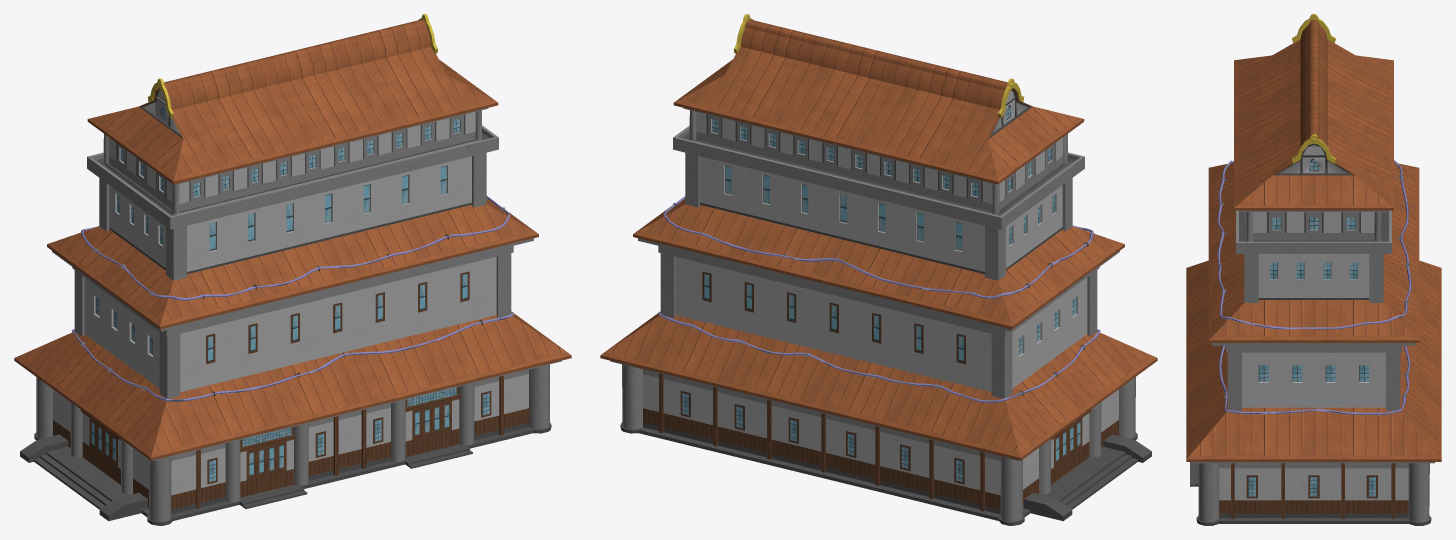
File: SM_ENV_LKNVLD_CommonBuilding_B.FBX
3 views of the same model, side by side, from view 1: azimuth 30°, elevation 25°; view 2: azimuth 150°, elevation 25°; view 3: azimuth 270°, elevation 25° (orthographic). The views are drawn at different scales.
Parts seen in each view (by area): view 1: SM_ENV_LKNVLD_CommonBuilding_B; view 2: SM_ENV_LKNVLD_CommonBuilding_B; view 3: SM_ENV_LKNVLD_CommonBuilding_B.
Boxes of the visible parts, <box> form: SM_ENV_LKNVLD_CommonBuilding_B: <box>14,14,571,525</box>; SM_ENV_LKNVLD_CommonBuilding_B: <box>600,14,1157,525</box>; SM_ENV_LKNVLD_CommonBuilding_B: <box>1186,14,1441,525</box>.
Size of the model in its own units: 4243 by 3569 by 2288.
